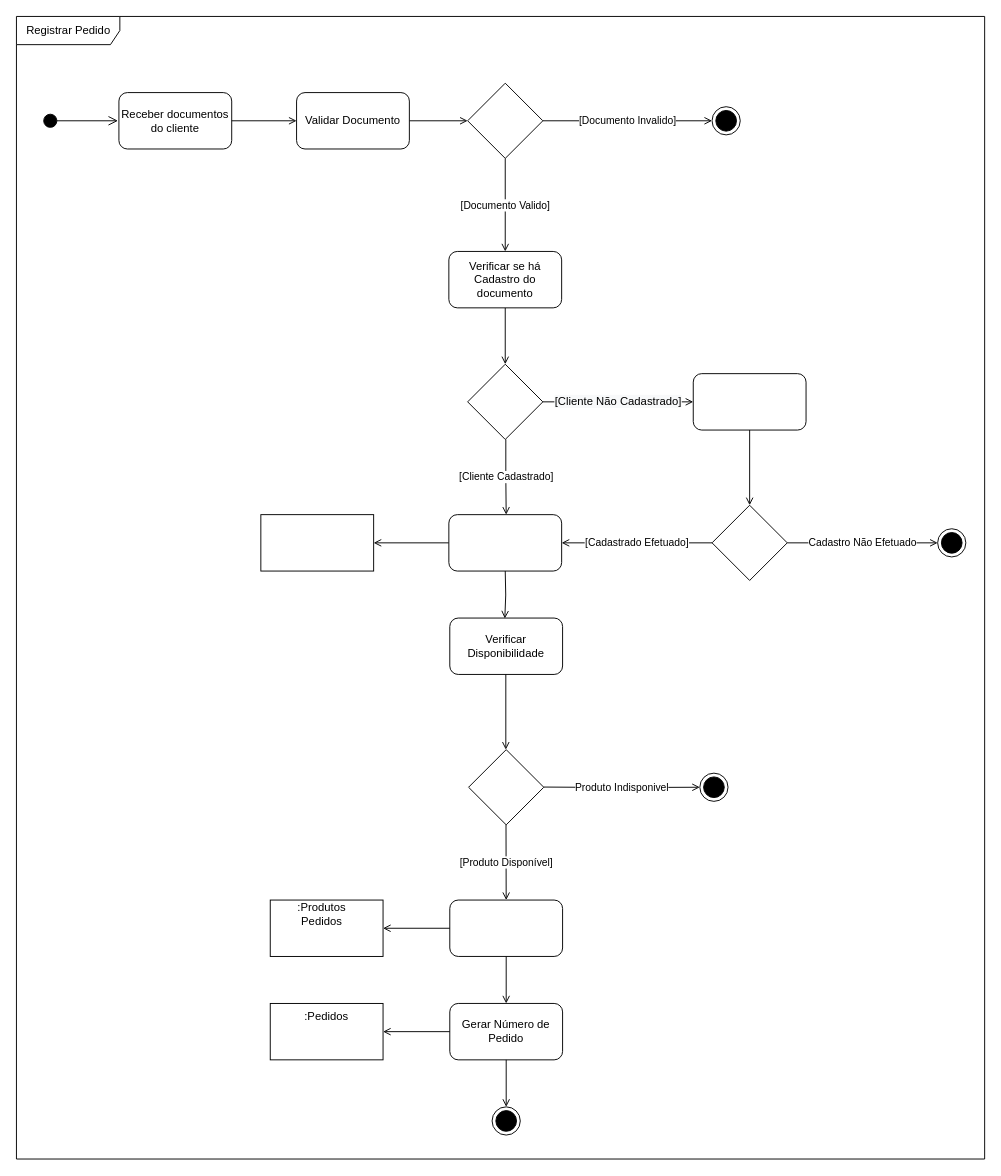
This 1001x1176 diagram has some shape labels left out. Each missing label, with the centre of its shape:
":Cliente" belongs at pixel 317 542.
"Cadastrar Cliente" belongs at pixel 749 401.
"Receber Pedido" belongs at pixel 505 542.
"Registrar Produtos Pedidos" belongs at pixel 506 927.
